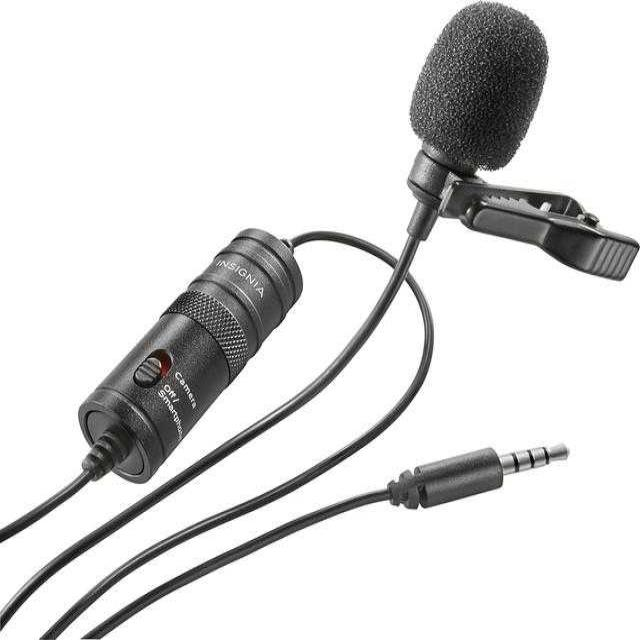microphone: (410, 1, 546, 181)
